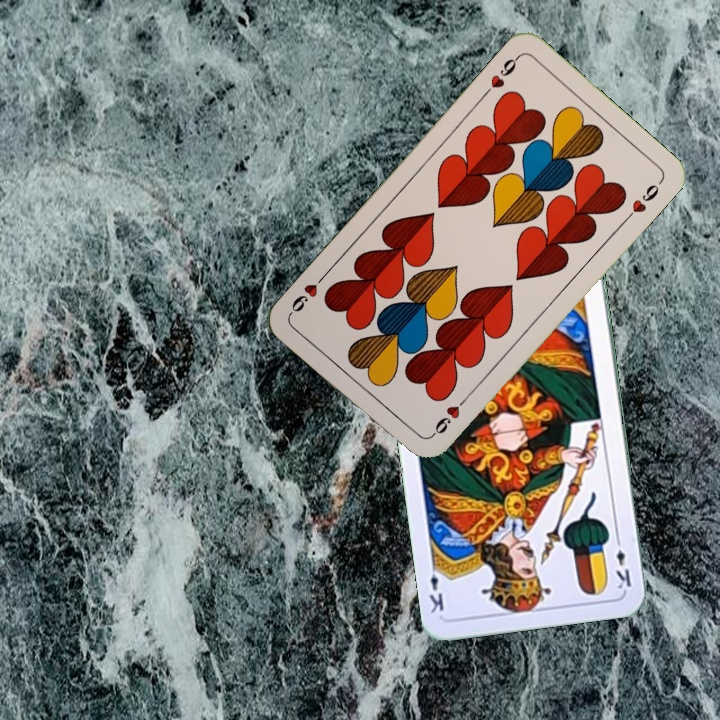EK: (611, 532, 634, 592)
H9: (479, 51, 523, 99), (426, 392, 470, 440)
